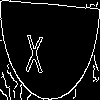X: (25, 24, 44, 74)
